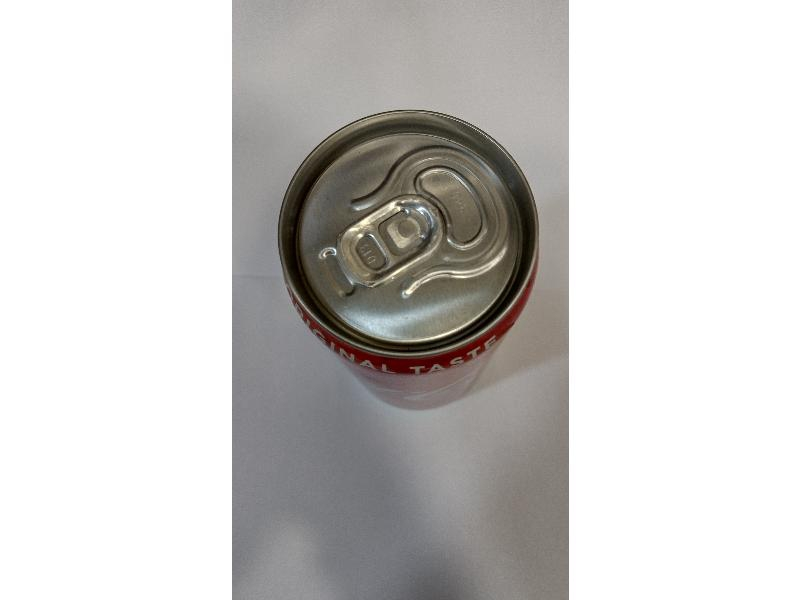can: (273, 110, 540, 412)
